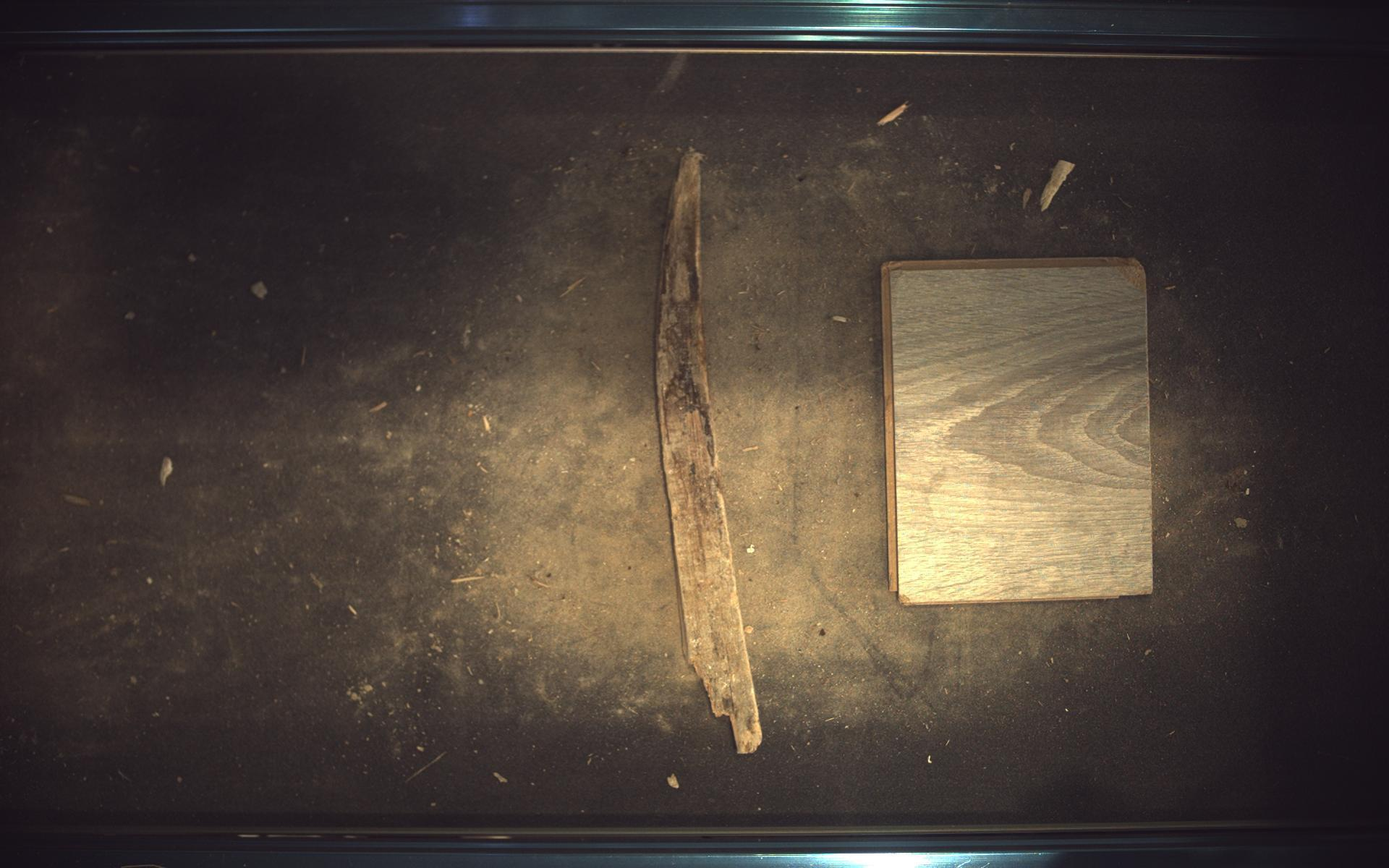wood: (884, 257, 1155, 605), (656, 149, 763, 755)
